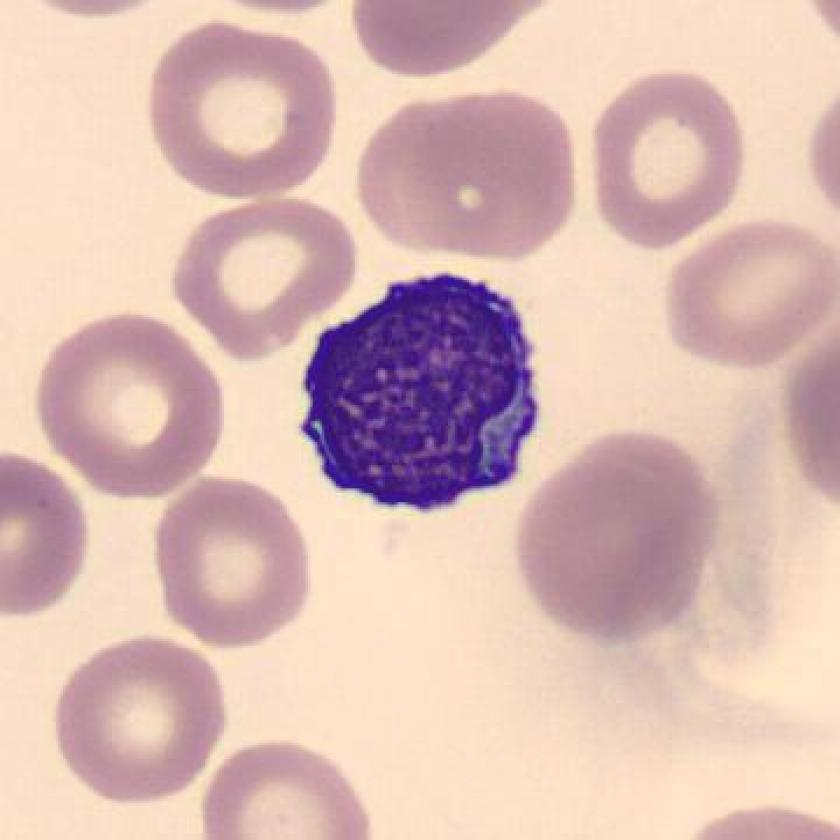lymphocyte: (288, 263, 561, 533)
